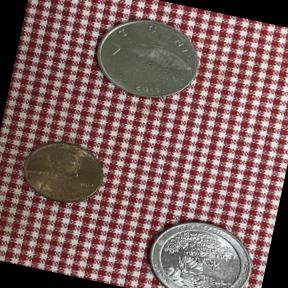Croatia-2Kune-B: (77, 2, 214, 116)
US-1cent-B: (5, 126, 118, 217)
US-25cent-B: (134, 205, 262, 288)
